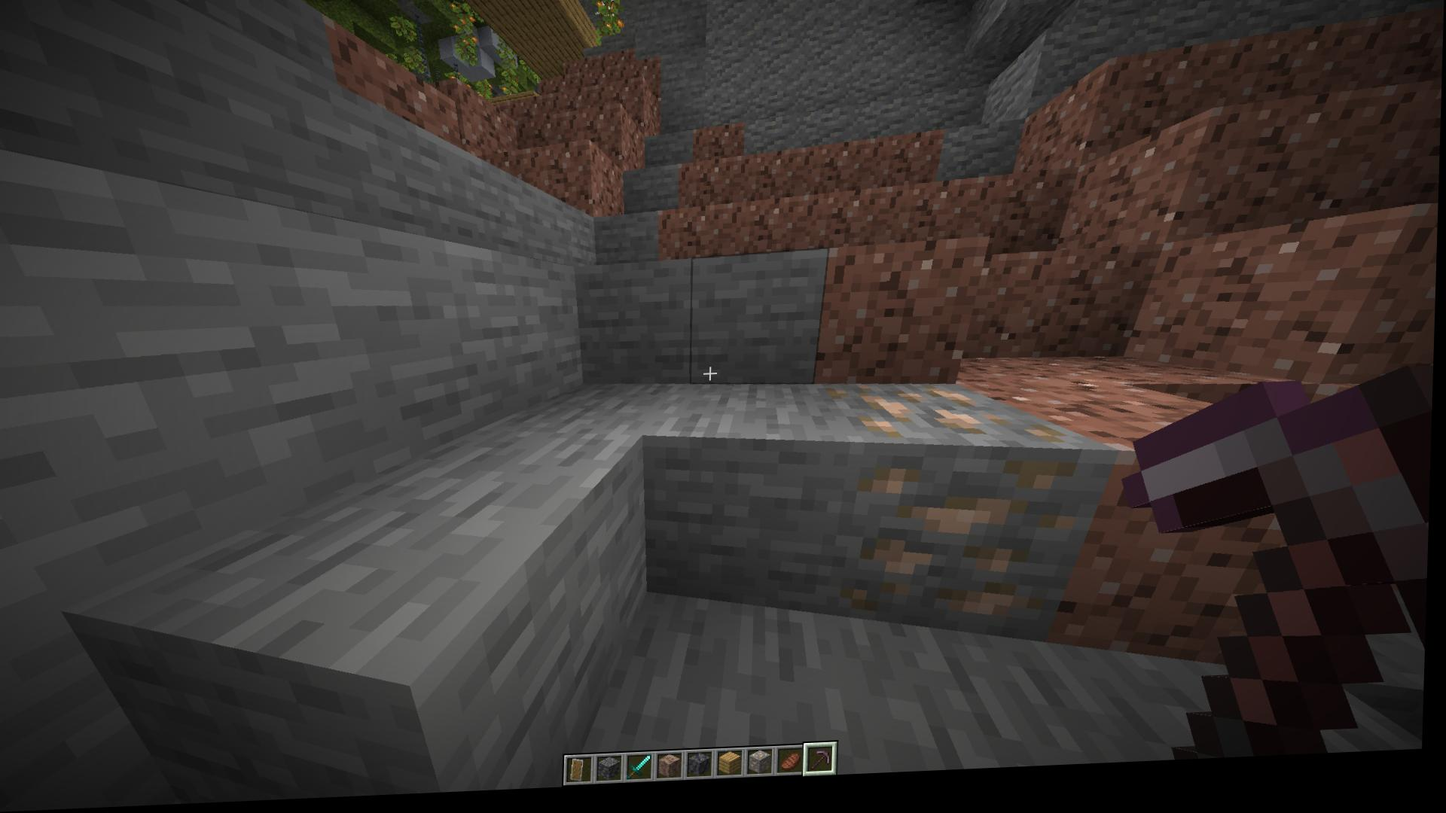iron ore: (857, 454, 1087, 635), (829, 380, 1077, 461)
